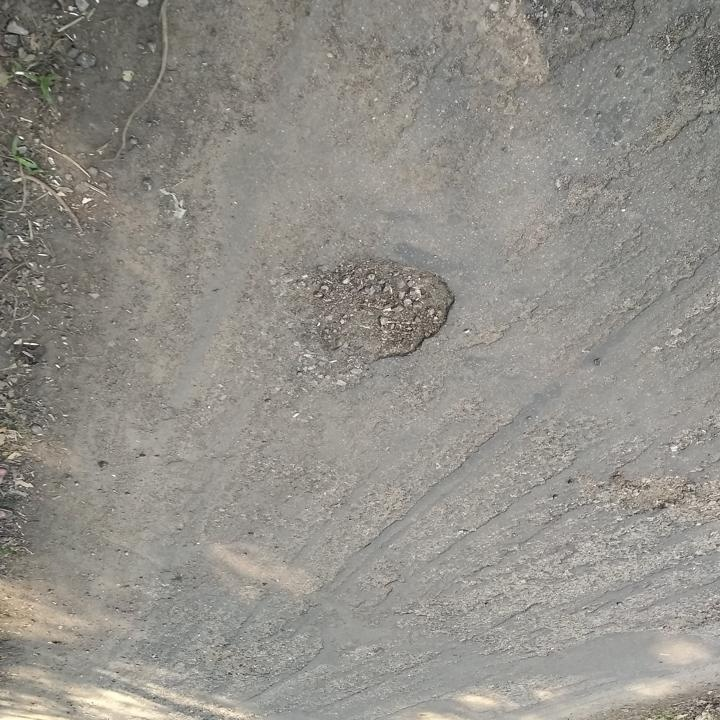pothole: (290, 255, 461, 366), (616, 474, 689, 520)
